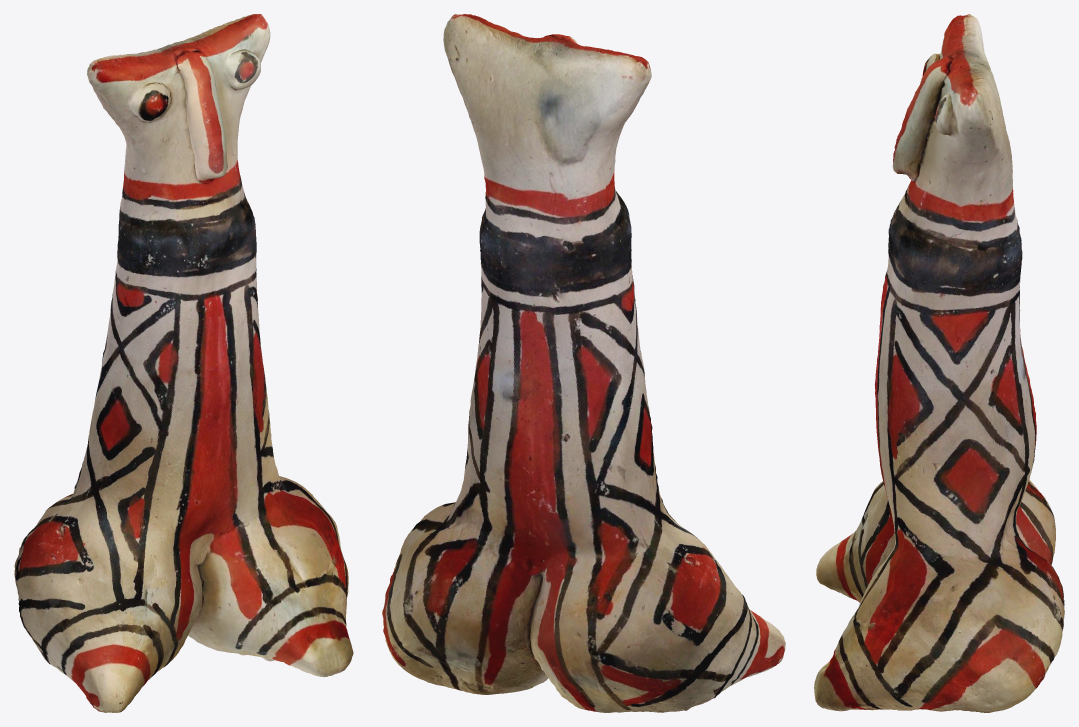
The model's file is Boneca27.glb.
3 renders of one model, left to right at view 1: azimuth 30°, elevation 25°; view 2: azimuth 150°, elevation 25°; view 3: azimuth 270°, elevation 25°, orthographic. The views are drawn at different scales.
Parts seen in each view (by area): view 1: d2e0b6e1-29f4-46fe-8146-bcb3fef0f9ad; view 2: d2e0b6e1-29f4-46fe-8146-bcb3fef0f9ad; view 3: d2e0b6e1-29f4-46fe-8146-bcb3fef0f9ad.
Boxes of the visible parts, box(x1,y1,x2,y2) form: d2e0b6e1-29f4-46fe-8146-bcb3fef0f9ad: box(14, 14, 353, 712); d2e0b6e1-29f4-46fe-8146-bcb3fef0f9ad: box(382, 14, 785, 712); d2e0b6e1-29f4-46fe-8146-bcb3fef0f9ad: box(814, 14, 1064, 712).
Bounding box in the file's own units: 0.5977 × 1.15 × 0.4259.
Materials: 1 (1 with a texture image).
